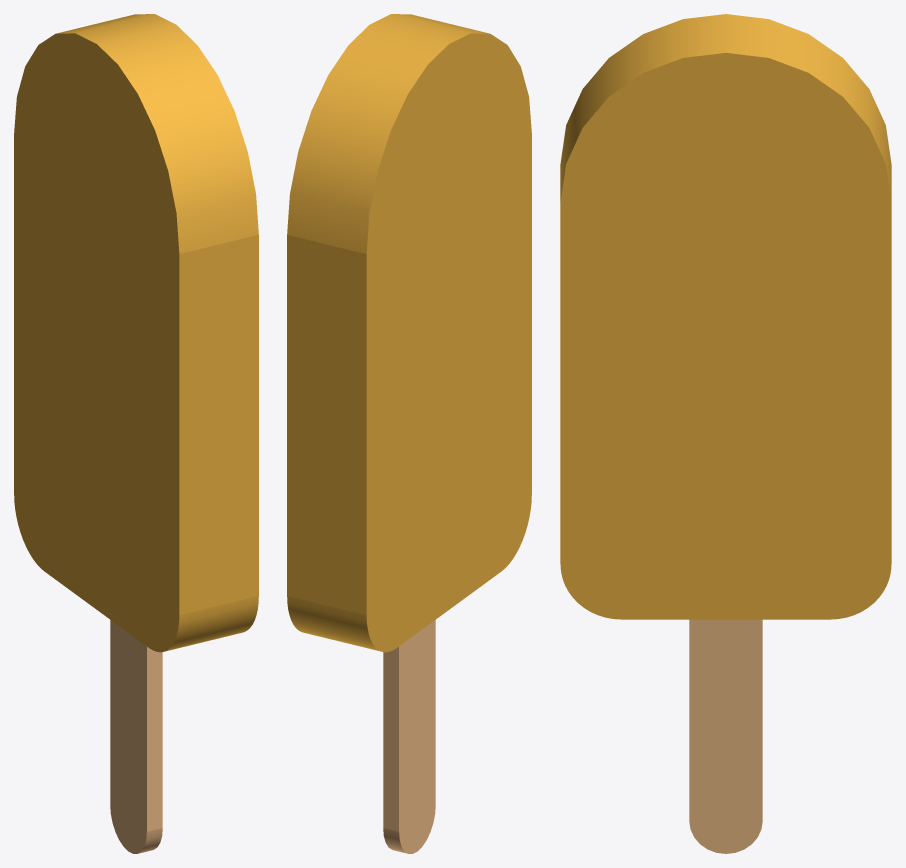
File: popsicle.obj
3 views of the same model, side by side, from view 1: azimuth 30°, elevation 25°; view 2: azimuth 150°, elevation 25°; view 3: azimuth 270°, elevation 25° (orthographic).
Visible parts, largest first — view 1: popsicle; view 2: popsicle; view 3: popsicle.
Boxes of the visible parts, left/top/right/bottom form: popsicle: left=14, top=14, right=258, bottom=853; popsicle: left=287, top=14, right=531, bottom=853; popsicle: left=560, top=14, right=891, bottom=853.
Bounding box in the file's own units: 0.05 × 0.49 × 0.18.
